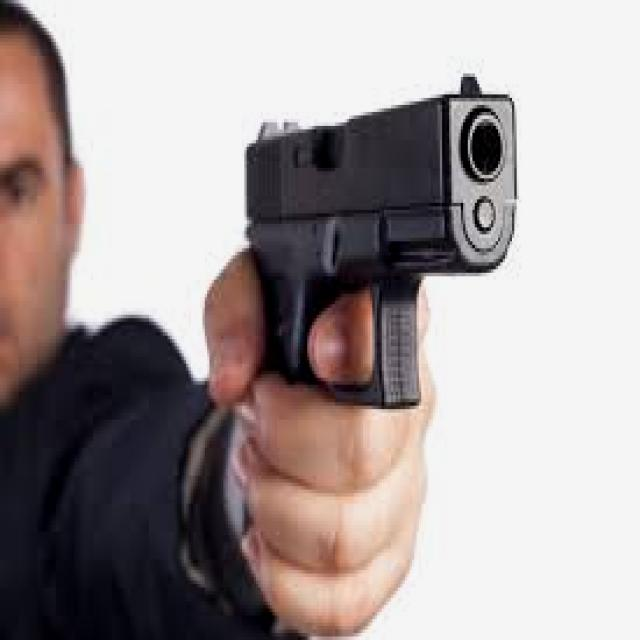pistol: (196, 59, 522, 580)
